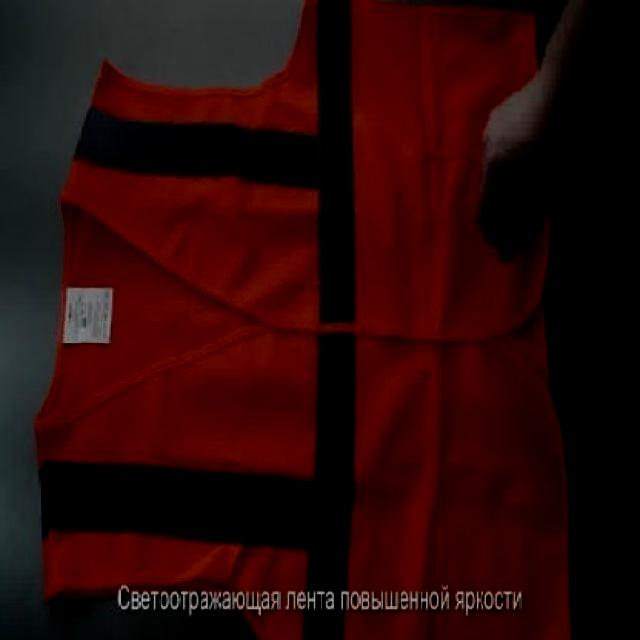Mask: (32, 0, 573, 638)
